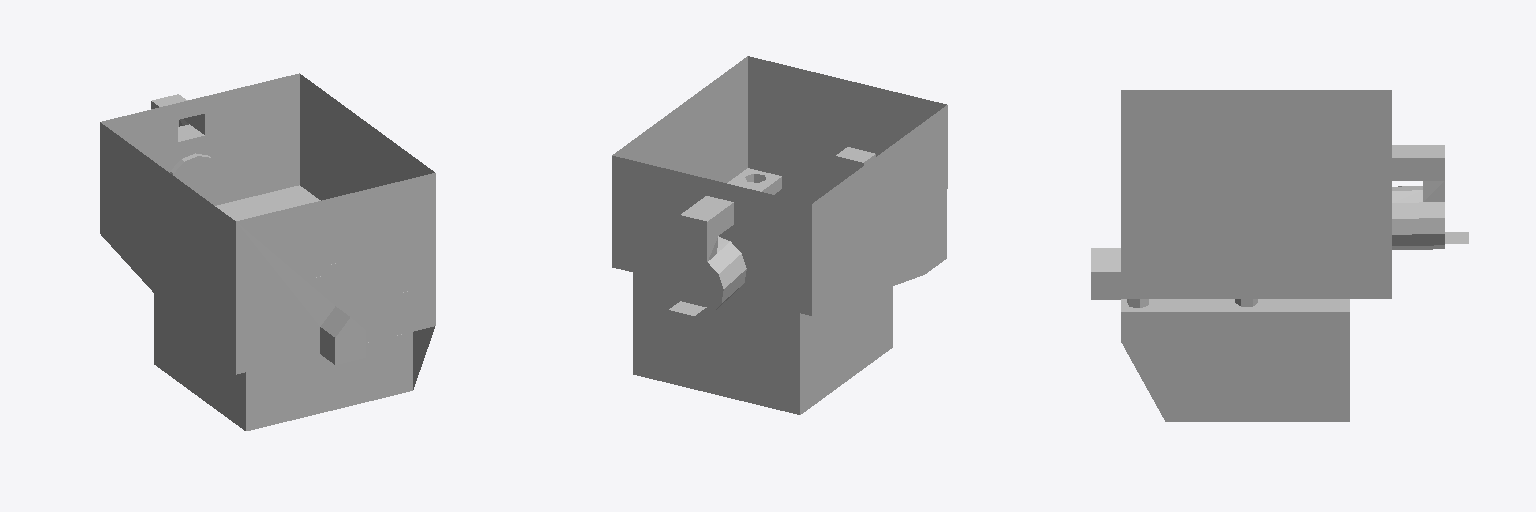
The model's file is level 11 area 2.obj.
3 views of the same model, side by side, from view 1: azimuth 30°, elevation 25°; view 2: azimuth 150°, elevation 25°; view 3: azimuth 270°, elevation 25° (orthographic).
Visible parts, largest first — view 1: lvl_2_underground; view 2: lvl_2_underground; view 3: lvl_2_underground.
Boxes of the visible parts, x1=… form: lvl_2_underground: x1=100, y1=73, x2=435, y2=430; lvl_2_underground: x1=612, y1=56, x2=947, y2=414; lvl_2_underground: x1=1091, y1=90, x2=1468, y2=421.
Size of the model in its own units: 12.61 by 14.15 by 20.72.